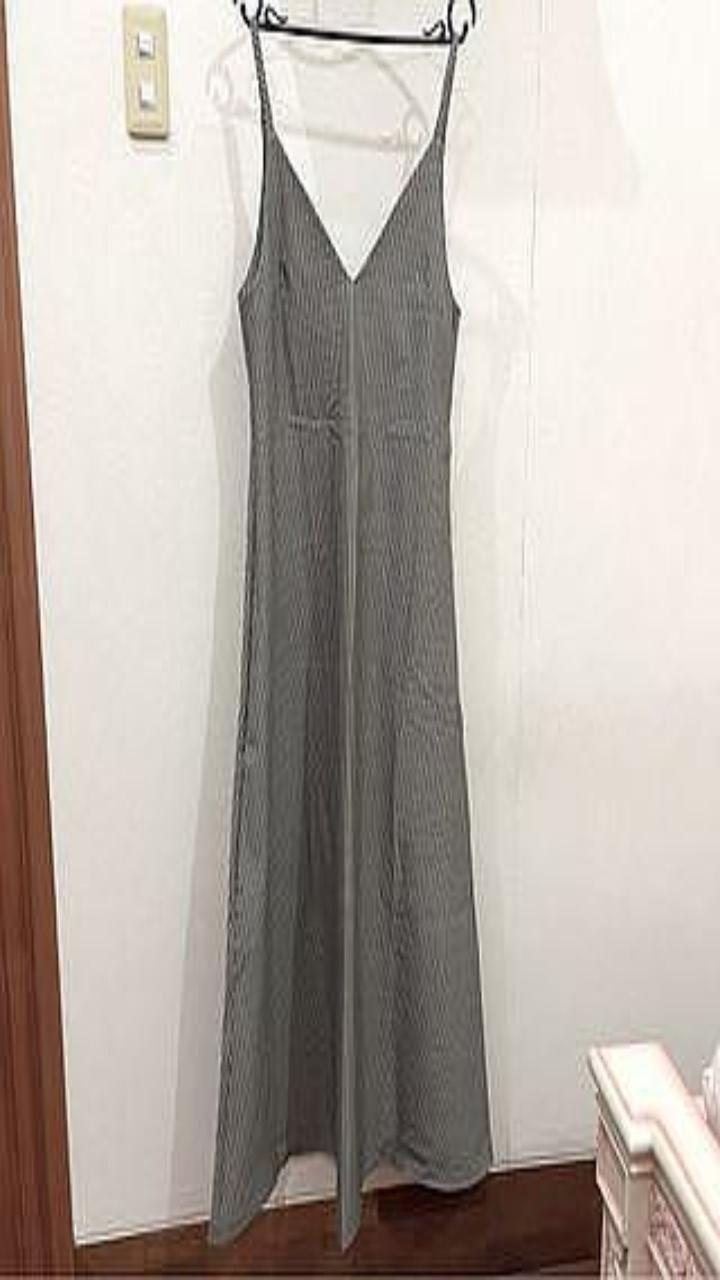Dresses: (207, 23, 491, 1247)
